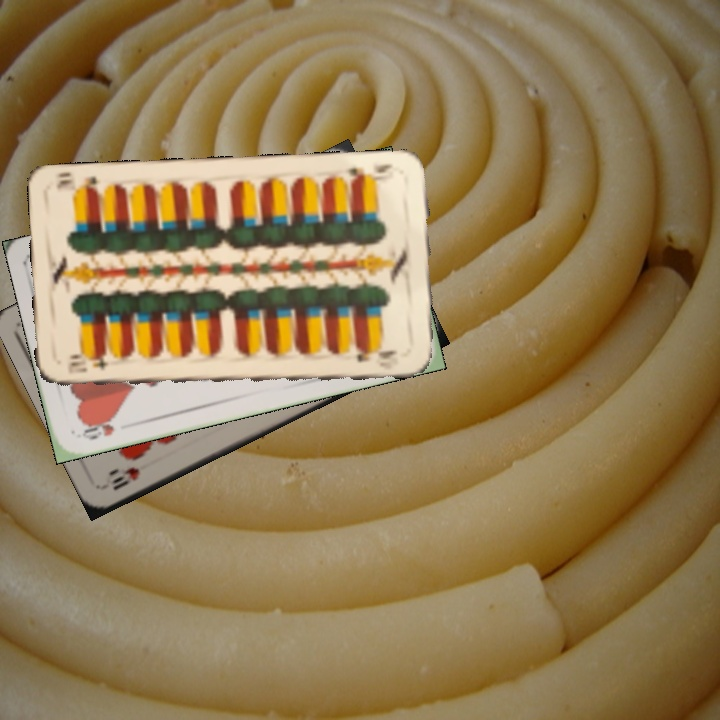E10: (343, 160, 394, 185), (63, 355, 111, 376)
H10: (107, 463, 142, 493)
HO: (75, 413, 118, 443)
